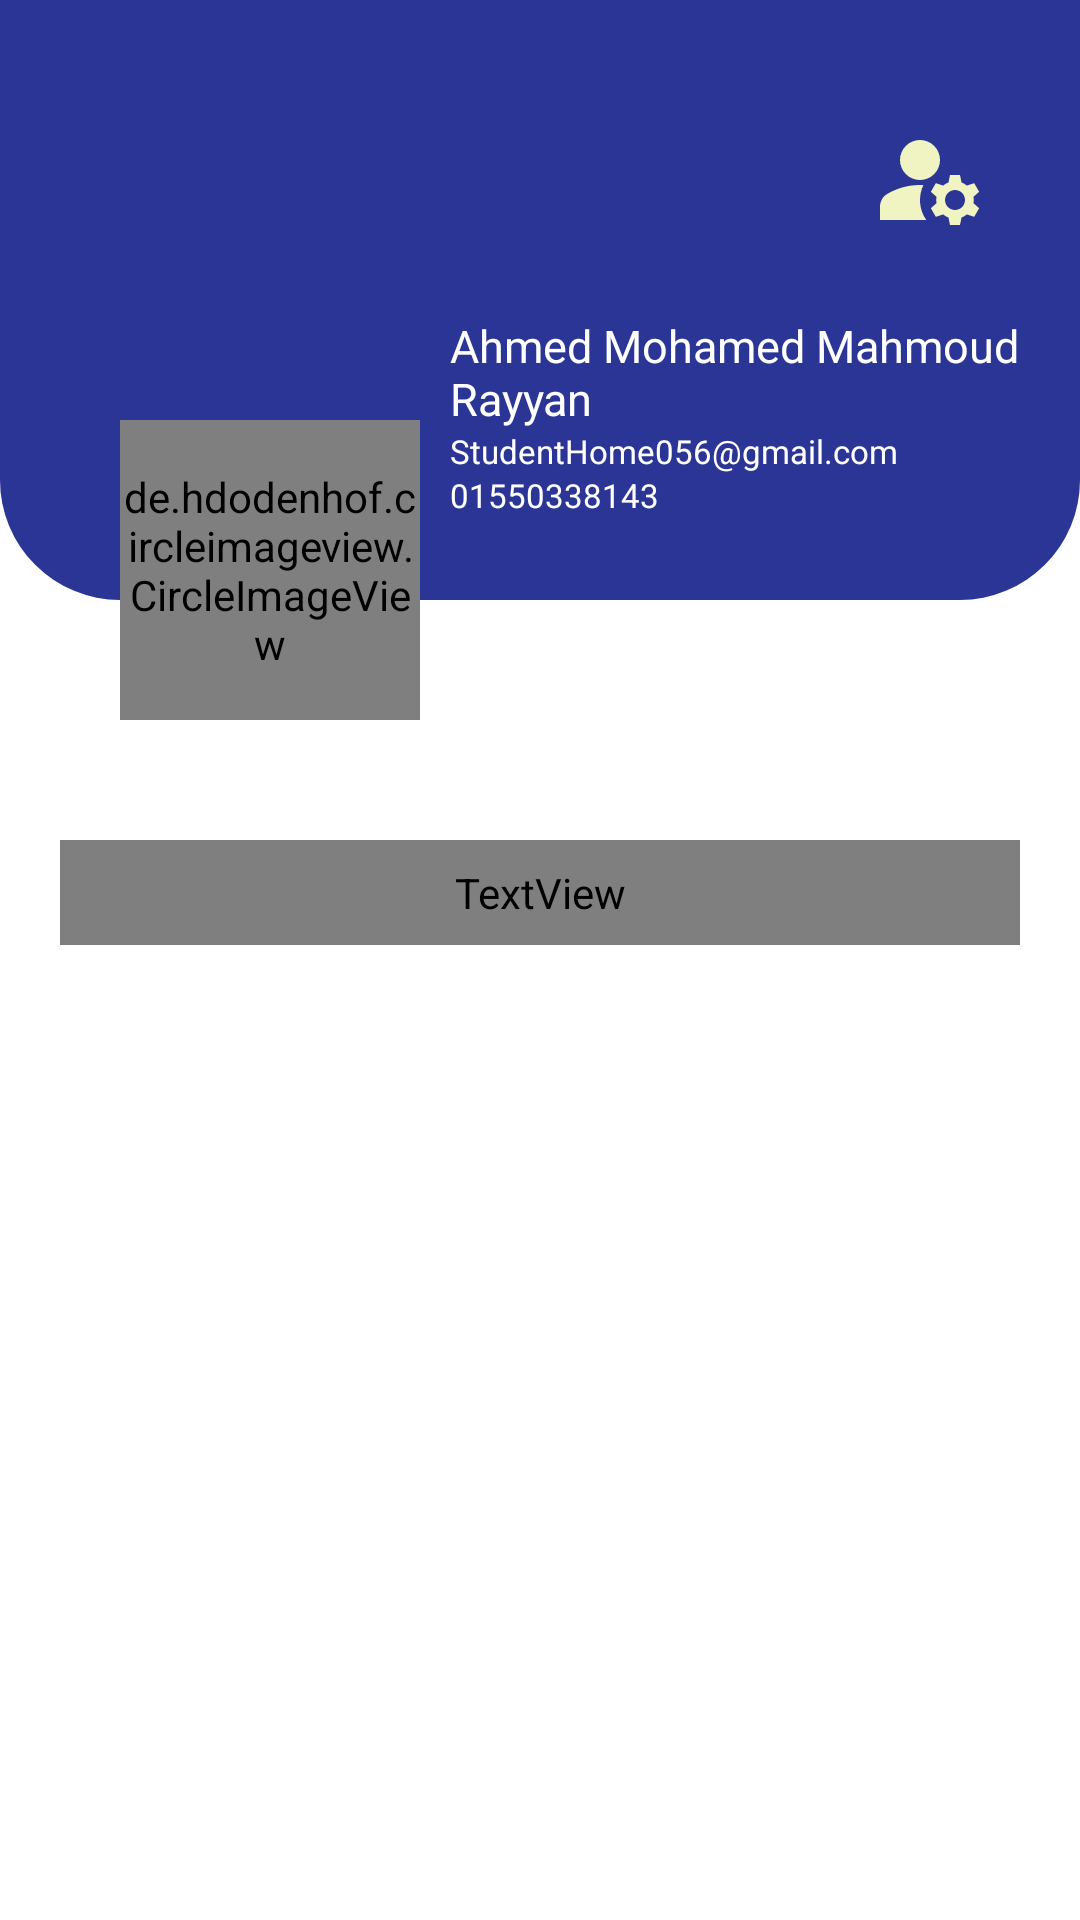

Icons on this 1080x1920 Android screen, each with its box as (x1, y1, x2, y2):
manage accounts: (880, 140, 979, 225)
